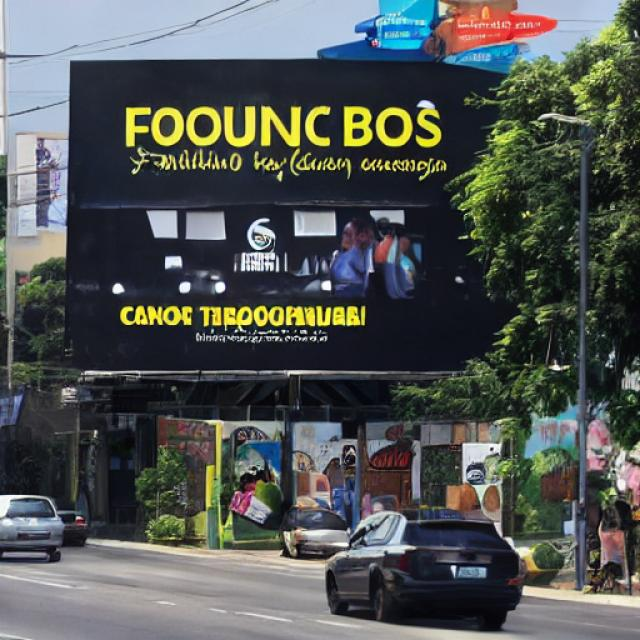Billboard: (61, 60, 468, 368)
